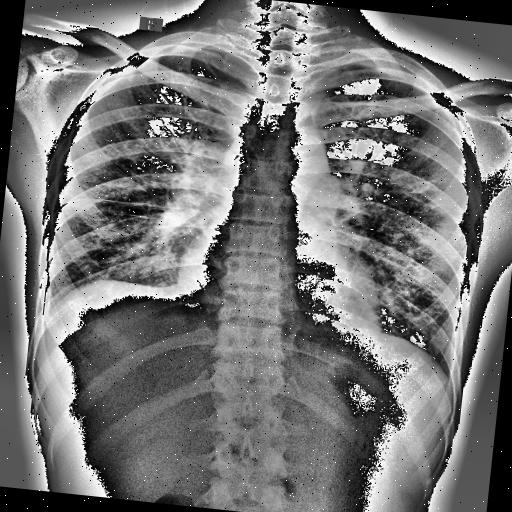11- Pleural thickening: (39, 293, 61, 322)
5- ILD: (323, 98, 473, 342), (49, 77, 210, 298), (349, 108, 475, 348), (55, 128, 190, 287), (358, 144, 468, 322), (82, 132, 196, 288)
9- Other lesion: (358, 144, 468, 322), (82, 132, 196, 288)
